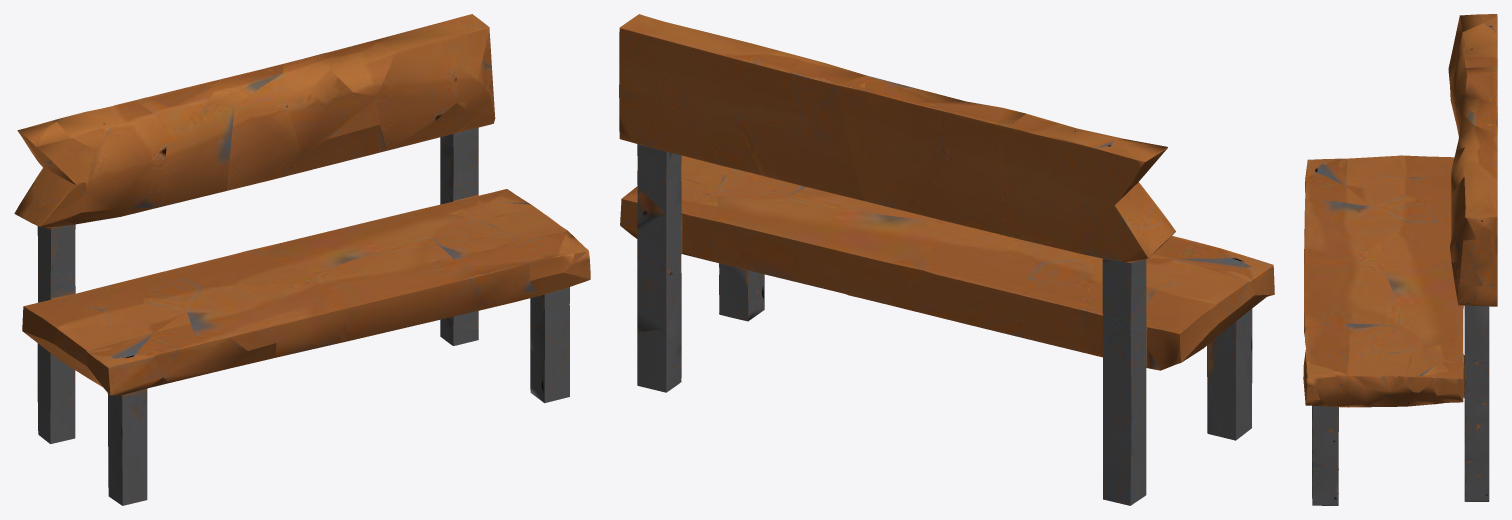
File: street-bench.glb
3 views of the same model, side by side, from view 1: azimuth 30°, elevation 25°; view 2: azimuth 150°, elevation 25°; view 3: azimuth 270°, elevation 25° (orthographic). The views are drawn at different scales.
Parts seen in each view (by area): view 1: output_unwrapped; view 2: output_unwrapped; view 3: output_unwrapped.
Boxes of the visible parts, bbox=[...] form: output_unwrapped: bbox=[14, 14, 590, 505]; output_unwrapped: bbox=[619, 14, 1274, 505]; output_unwrapped: bbox=[1303, 14, 1497, 505].
Size of the model in its own units: 1.9 by 1.16 by 0.7034.
1 material, 1 textured.
